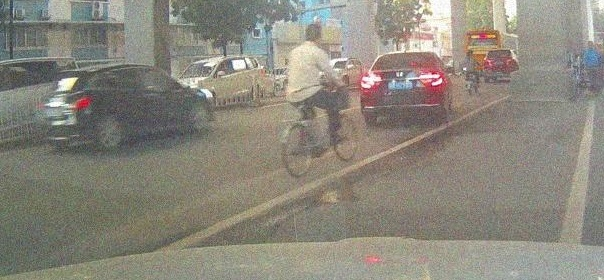L_light: (360, 76, 382, 89)
R_light: (419, 74, 443, 86)
T_light: (406, 63, 417, 66)
day-left: (360, 52, 446, 125)
